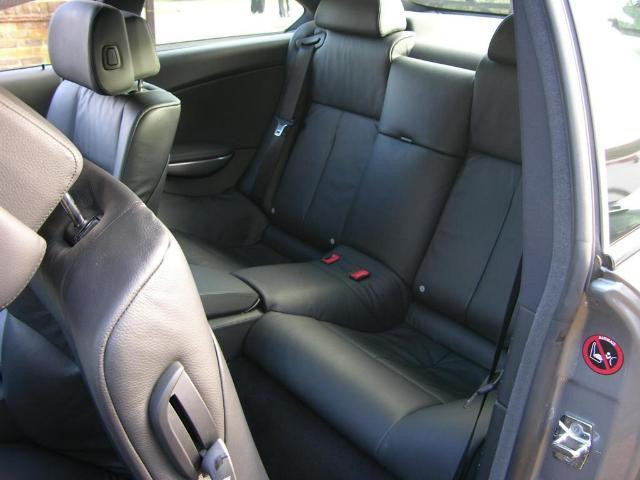SafeDriving: (576, 314, 632, 382)
Seatbelt: (451, 252, 521, 480), (248, 40, 316, 220)
